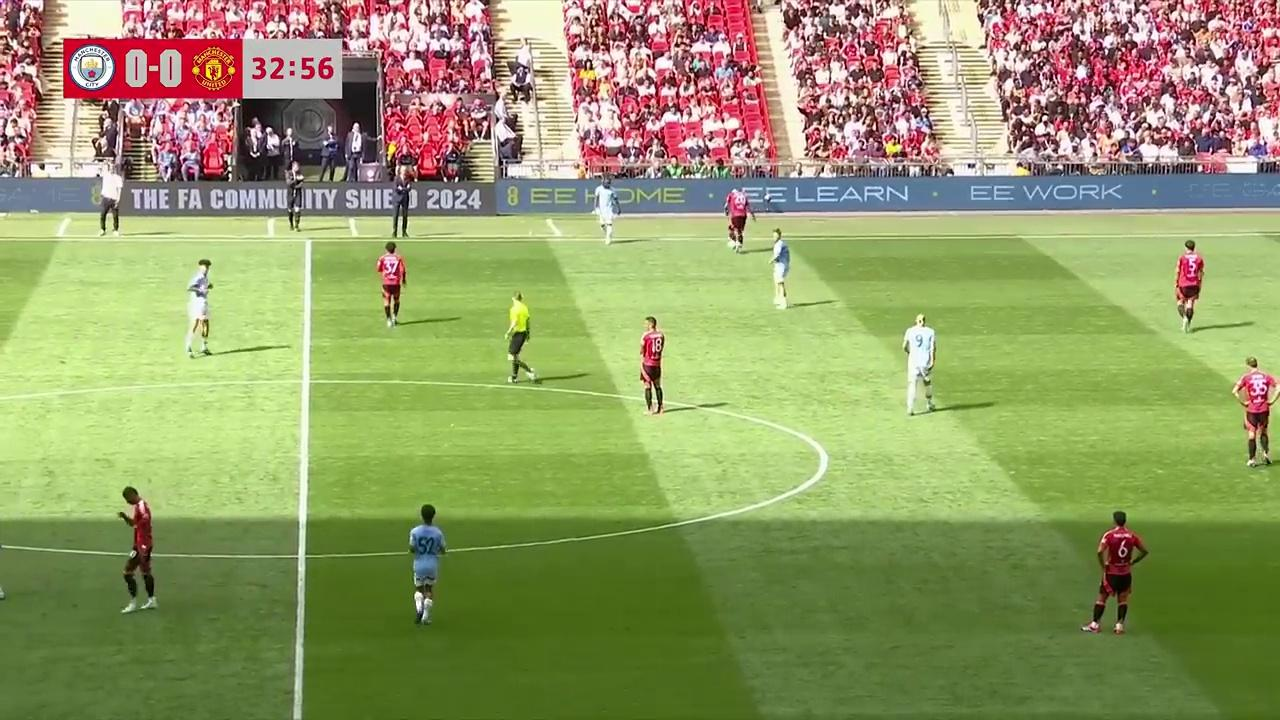player: (1083, 511, 1149, 635), (119, 483, 158, 614), (409, 504, 446, 626), (1232, 357, 1273, 467), (902, 316, 936, 415), (185, 259, 213, 358), (1175, 241, 1204, 332), (375, 244, 406, 328), (639, 316, 665, 416), (902, 313, 935, 387), (769, 228, 790, 307), (596, 176, 619, 244), (725, 189, 749, 252)
referee: (504, 293, 536, 382)
